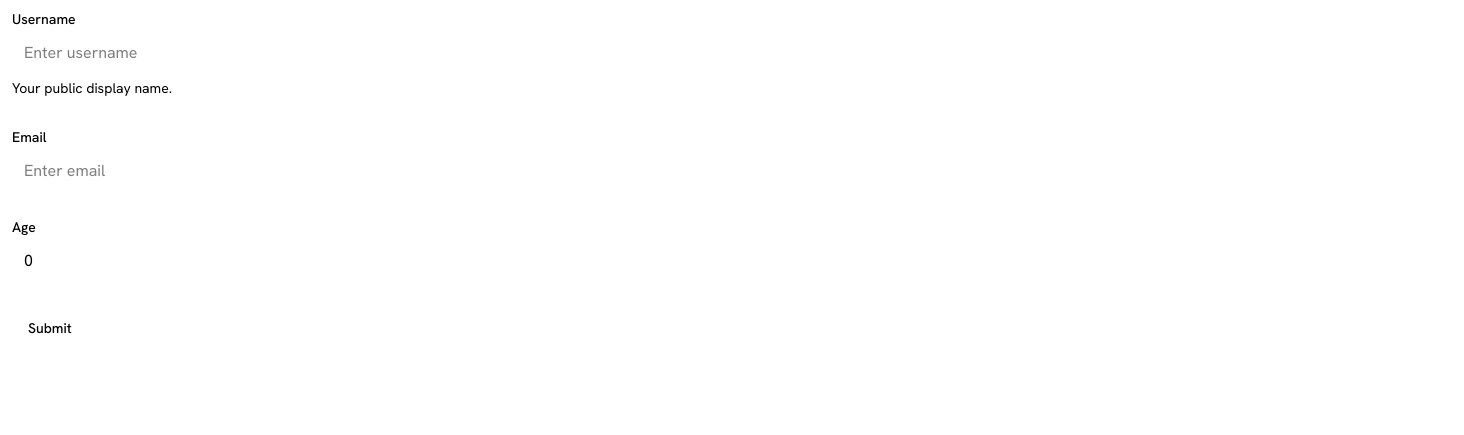
Test: Form Component › Validation › should show validation error for age less than 18
Replace the text in the number field with placeholder "Enter age" with "15" at (732, 260), box [12,242,1452,278]
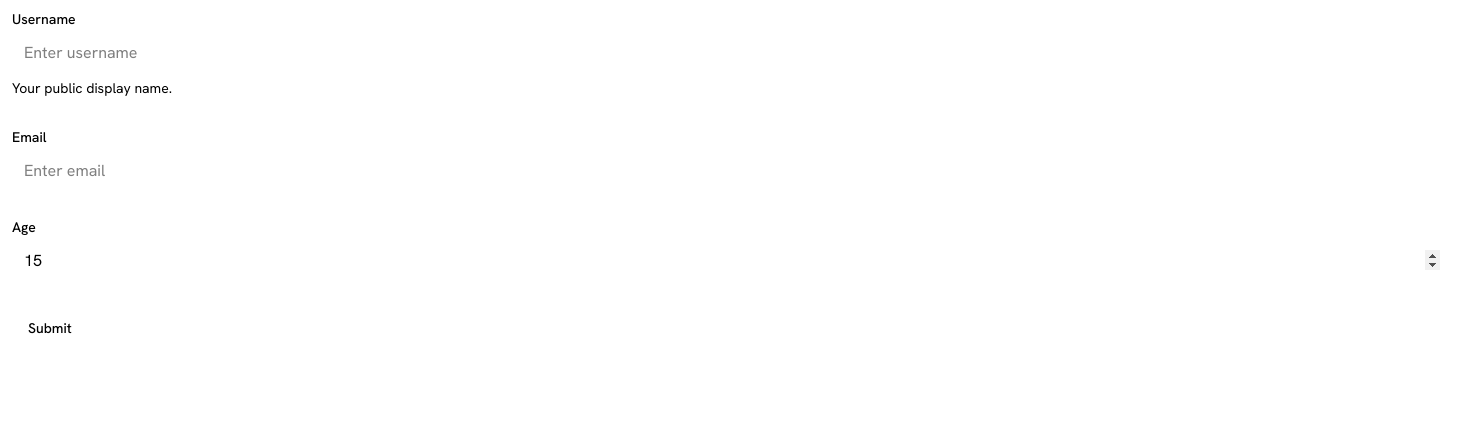
Click the button "Submit" at (50, 328), box [12,310,88,346]
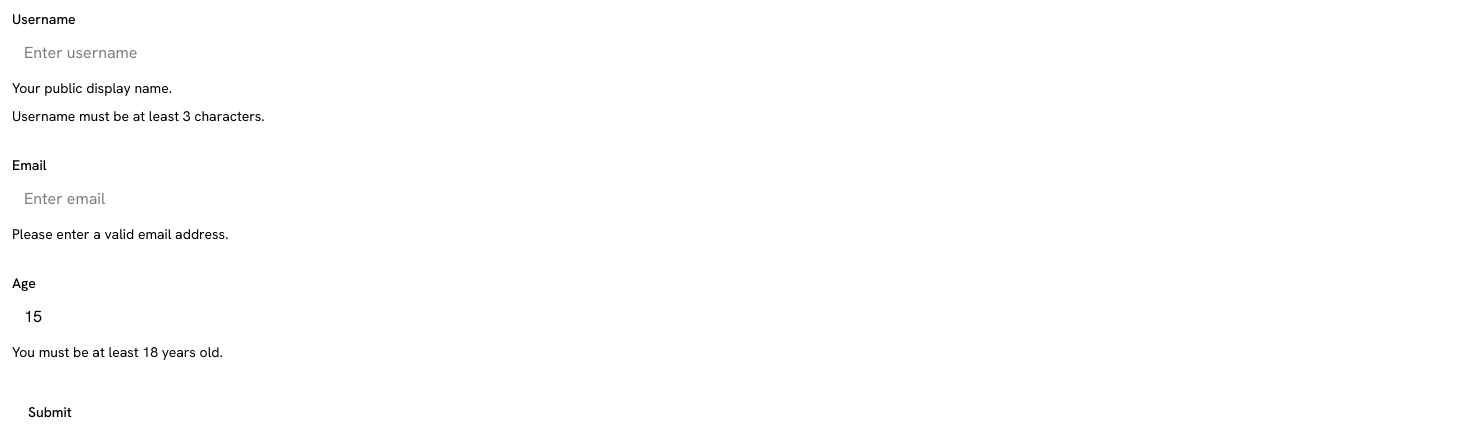
Expected: the text "You must be at least 18 years old." is shown, [12,343,223,361]
